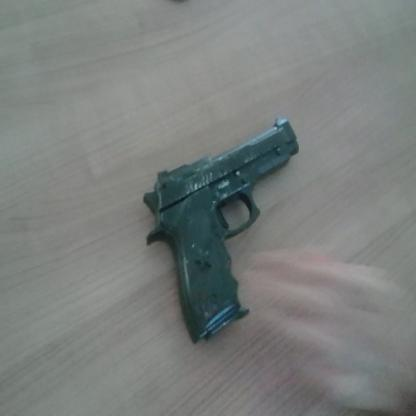handgun: (132, 103, 351, 359)
